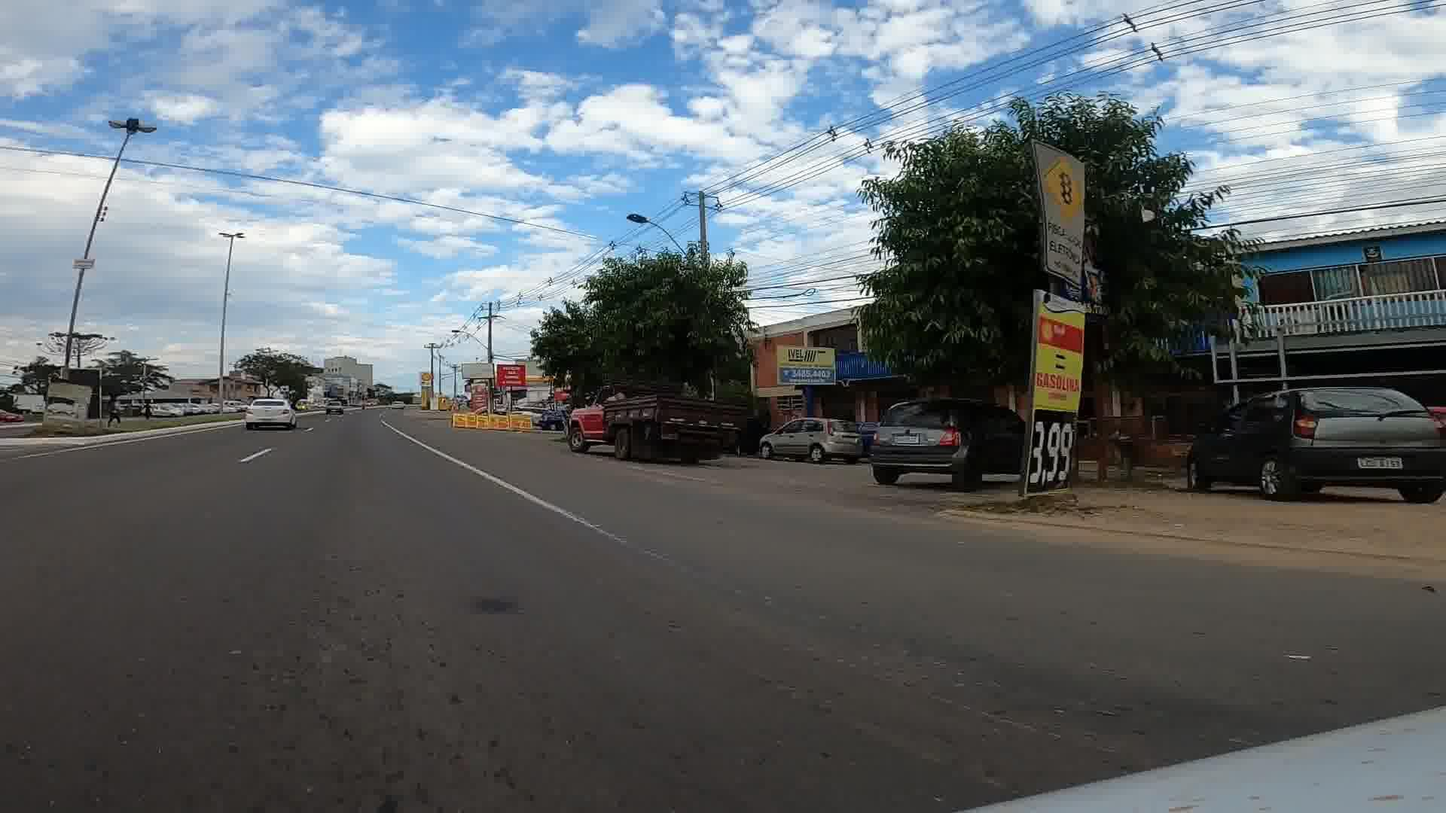A-14: (1041, 153, 1085, 225)
